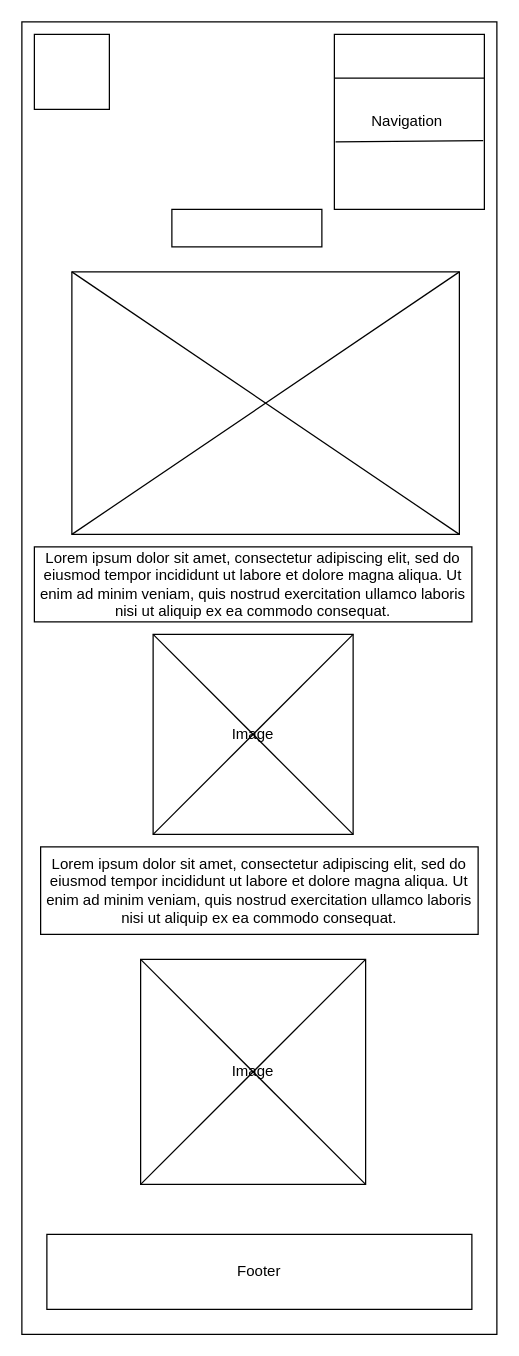
Some shapes in this 519 by 1356 pixel diagram are drawn without their labels. Each missing label, with the centre of its shape:
"Heading" belongs at (x=246, y=227).
"Hero Image" belongs at (x=265, y=402).
"Logo" belongs at (x=71, y=71).
